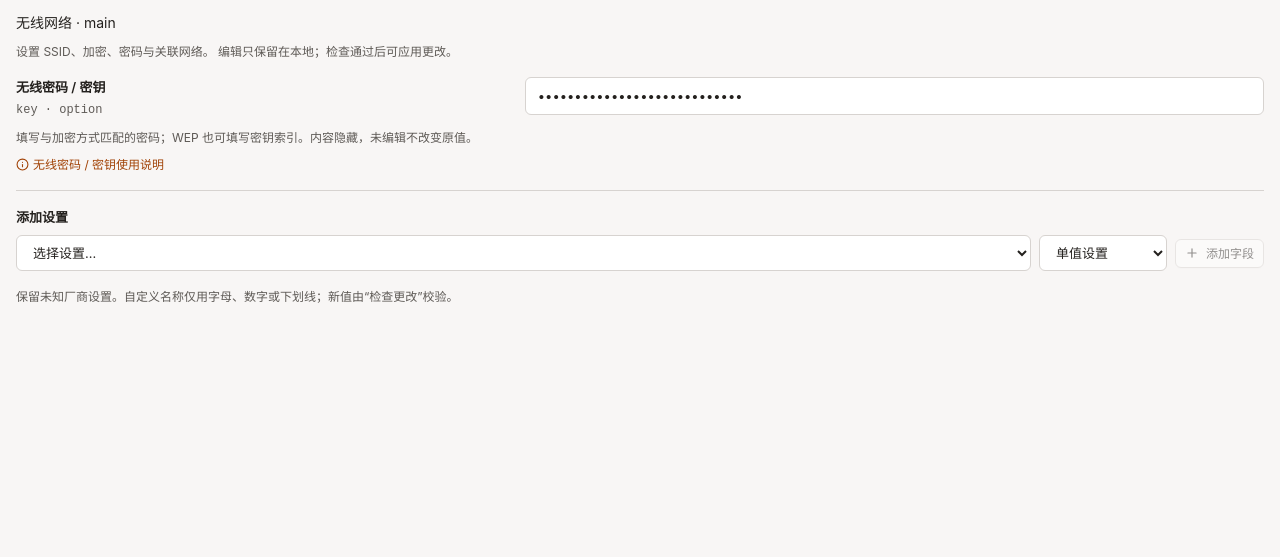
Scenario: expandable field help › does not project a credential value into any explanatory help
This screenshot has width=1280, height=557.
Click the heading "无线密码 / 密钥使用说明".
click(90, 164)  # box 16,155 -> 164,174
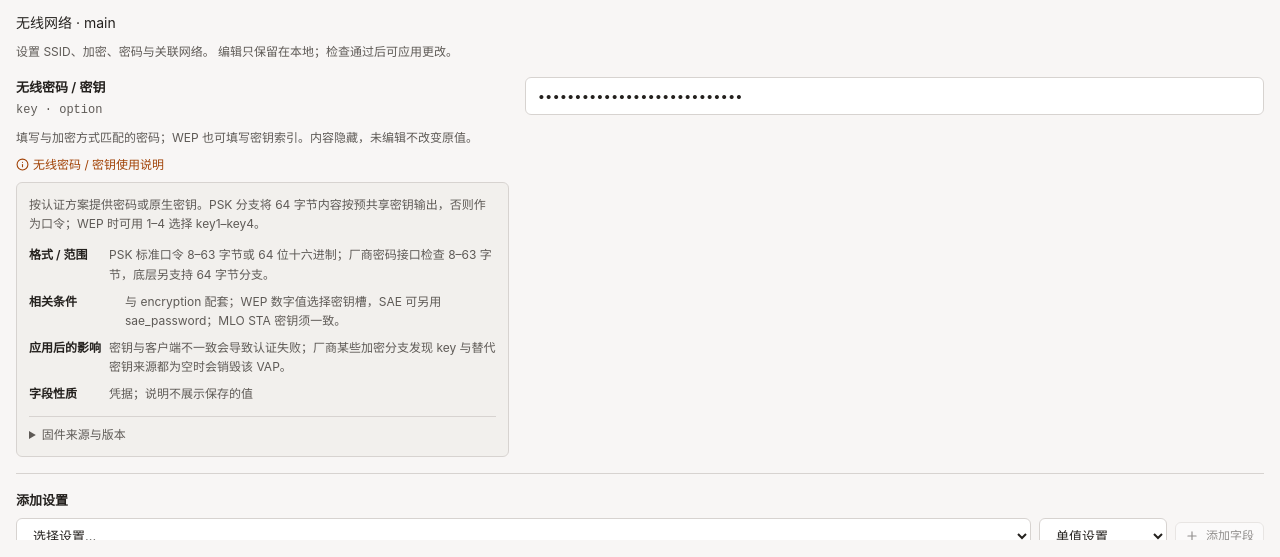
Expected: the password field named "无线密码 / 密钥 (key)" holds "synthetic-secret-for-ui-test", 525,77 -> 1264,115
Expected: the text "凭据；说明不展示保存的值" is shown, 109,386 -> 253,402
